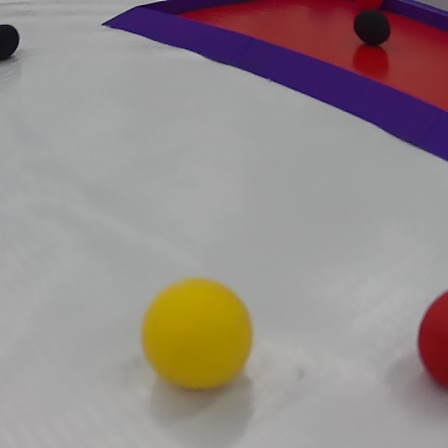black: (347, 10, 396, 46), (0, 17, 22, 72)
red: (417, 283, 448, 397)
red_aim: (95, 0, 448, 166)
yellow: (143, 278, 255, 397)
